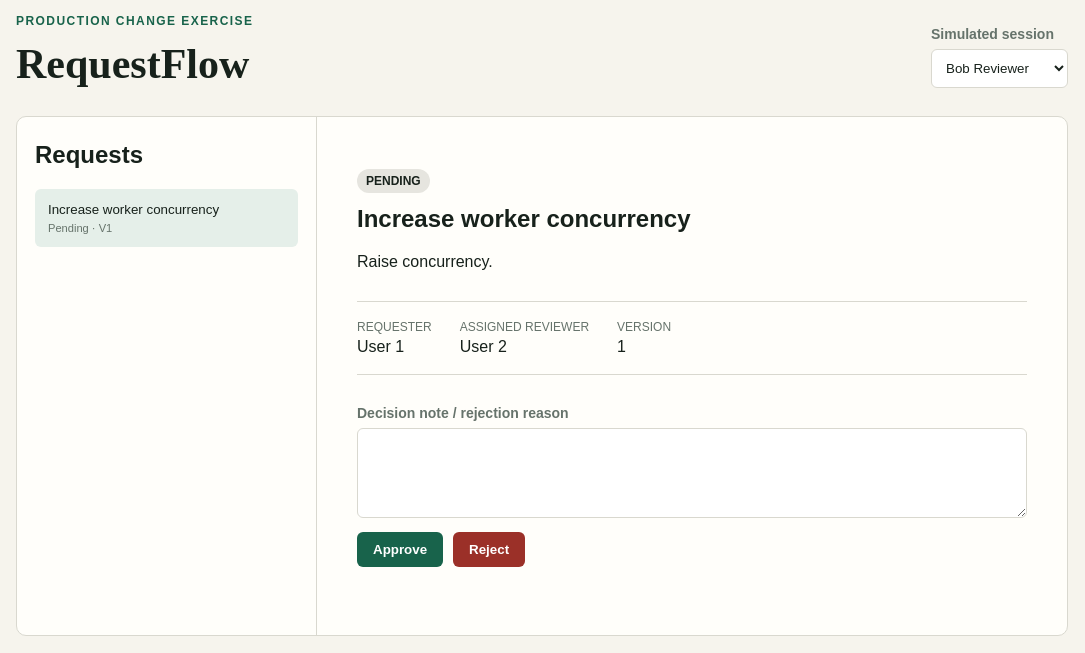
Test: RequestBoard starter › loads requests and completes the starter happy path
expect the heading "Increase worker concurrency" is shown: met, box [357,205,690,232]
Click the button "Approve" at [400, 549], box [357,532,443,567]
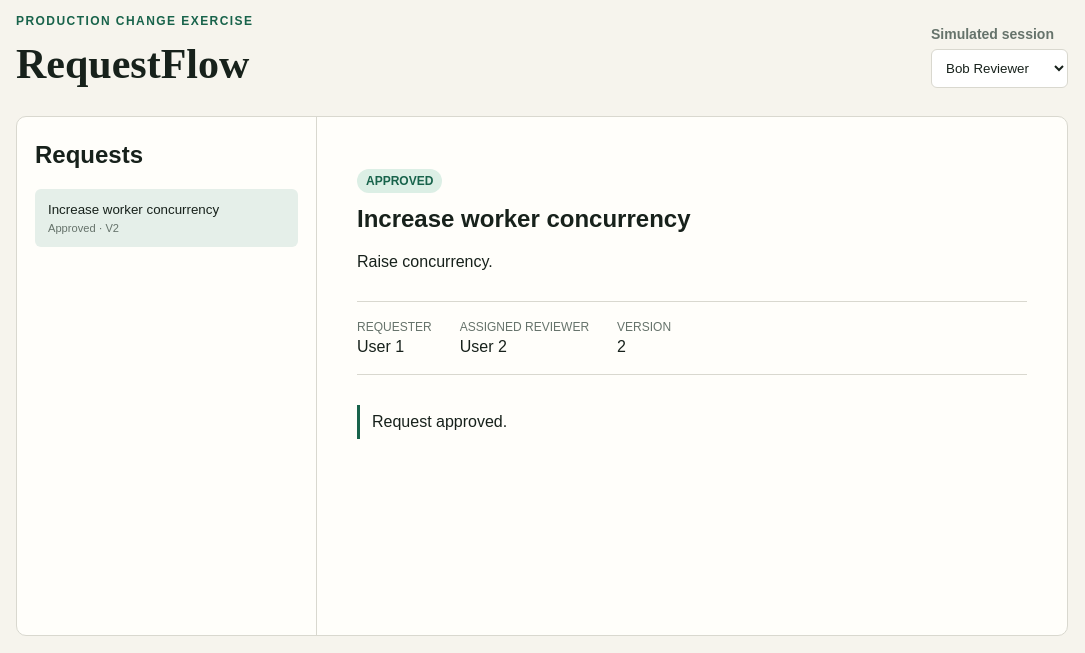
expect the text "Request approved." is shown: met, box [357,405,1027,439]
